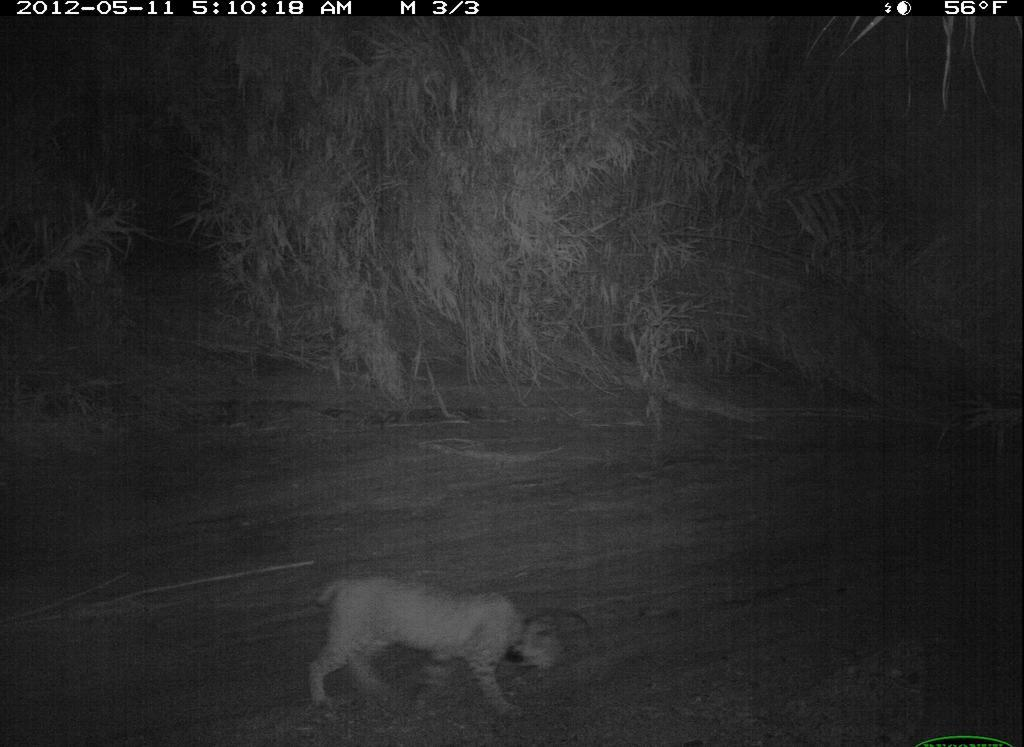bobcat: (285, 550, 585, 729)
